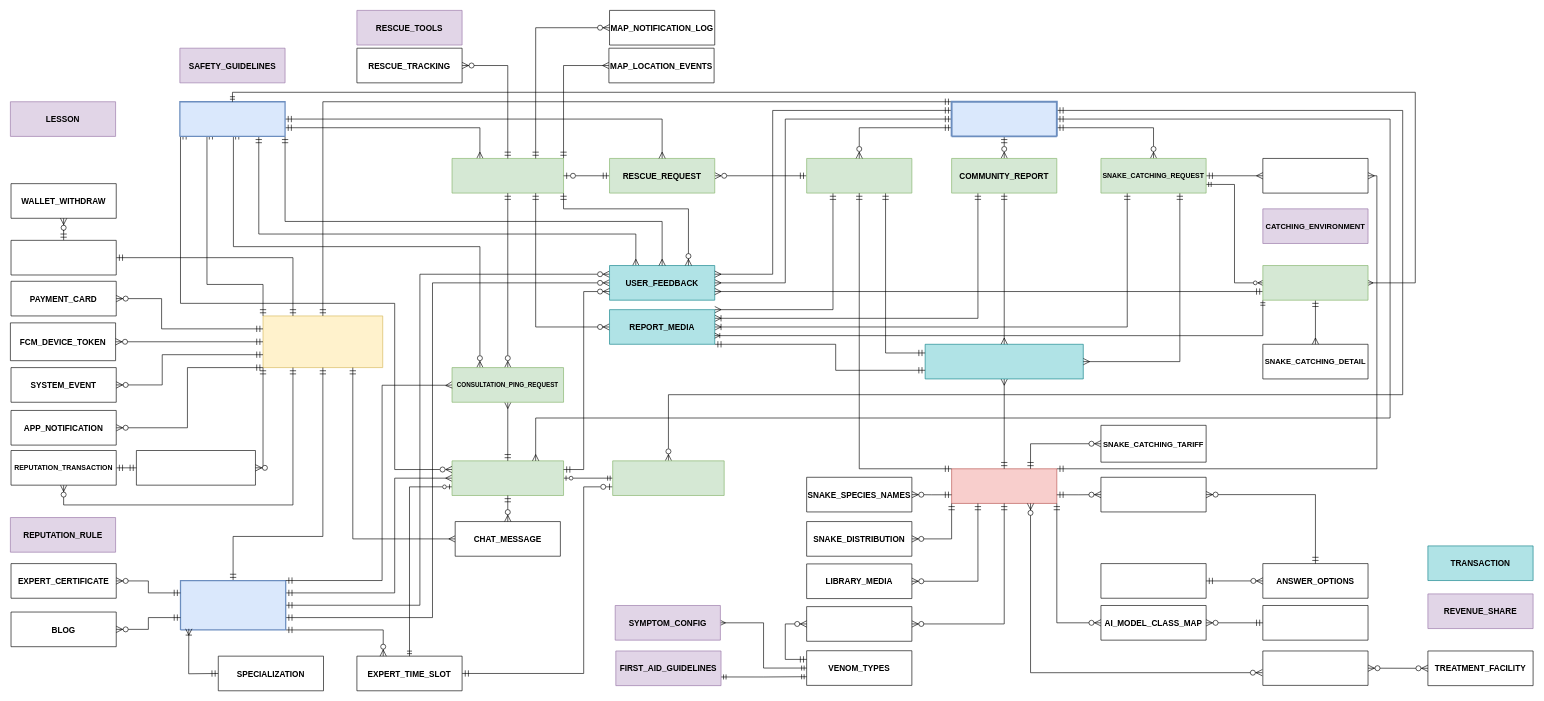
Some shapes in this 1544 by 701 pixel diagram are drawn without their labels. The shapes that lost their labels are listed below. From the top down, each one's centre as x and y in pixels, then its label:
At [232,119]: "RESCUER_PROFILE".
At [1003,118]: "MEMBER_PROFILE".
At [507,175]: "RESCUE_MISSION".
At [859,175]: "SNAKEBITE_INCIDENT".
At [1315,175]: "CATCHING_REQUEST_DETAIL".
At [63,257]: "WALLET".
At [1315,282]: "SNAKE_CATCHING_MISSION".
At [322,341]: "ACCOUNT".
At [1004,361]: "SNAKE_AI_RECOGNITION_RESULT".
At [195,467]: "REPUTATION_RAW_EVENT".
At [507,477]: "CONSULTATION".
At [668,477]: "CONSULTATION_BOOKING".
At [1004,485]: "SNAKE_SPECIES".
At [1153,494]: "SPECIES_QUESTIONS_MAPPING".
At [1153,580]: "FILTER_QUESTIONS".
At [233,605]: "EXPERT_PROFILE".
At [859,623]: "SPECIES_VENOM".
At [1315,622]: "AI_MODEL".
At [1315,667]: "ANTIVENOM".
